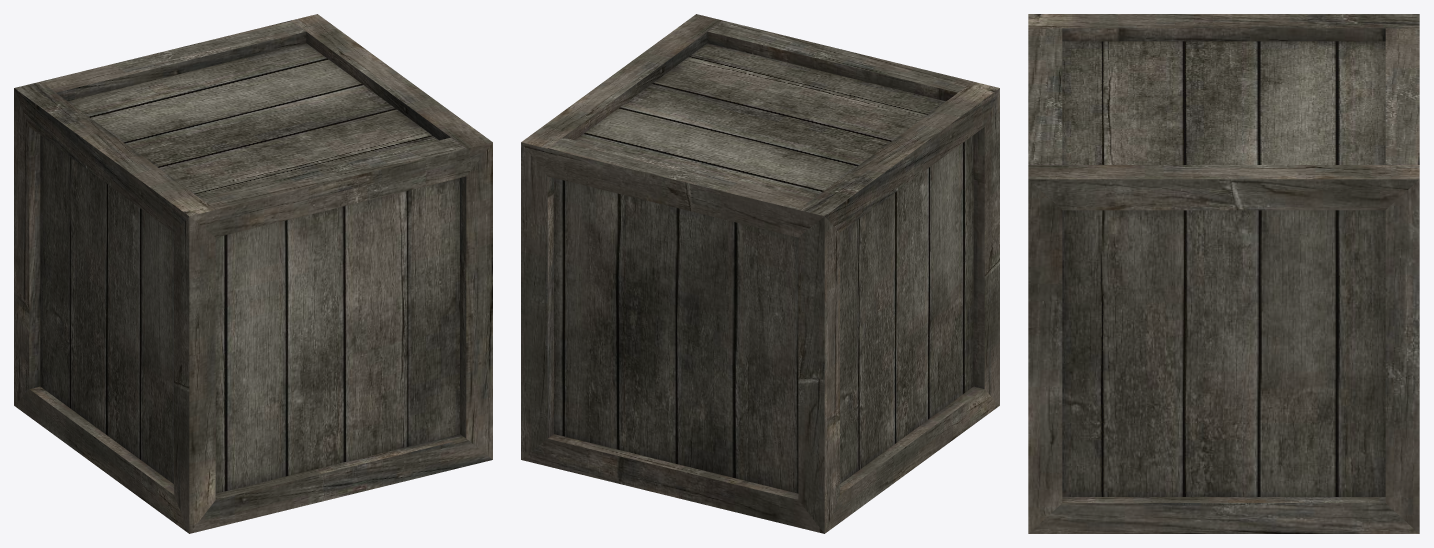
The model's file is vh_crate.glb.
The picture shows the model from 3 angles, left to right: view 1: azimuth 30°, elevation 25°; view 2: azimuth 150°, elevation 25°; view 3: azimuth 270°, elevation 25°; orthographic projection. The views are drawn at different scales.
Parts seen in each view (by area): view 1: crate; view 2: crate; view 3: crate.
Boxes of the visible parts, x1,y1,x2,y2 form: crate: (14,14,492,533); crate: (521,14,999,533); crate: (1028,14,1419,533).
Bounding box in the file's own units: 0.5047 × 0.5047 × 0.5047.
Materials: 1 (1 with a texture image).
